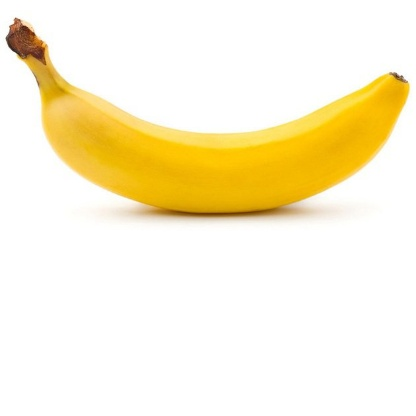chuoi: (5, 3, 411, 236)
